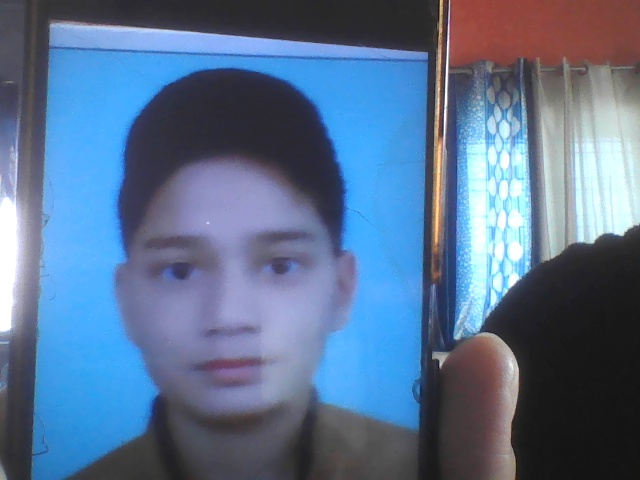fake: (103, 78, 367, 452)
